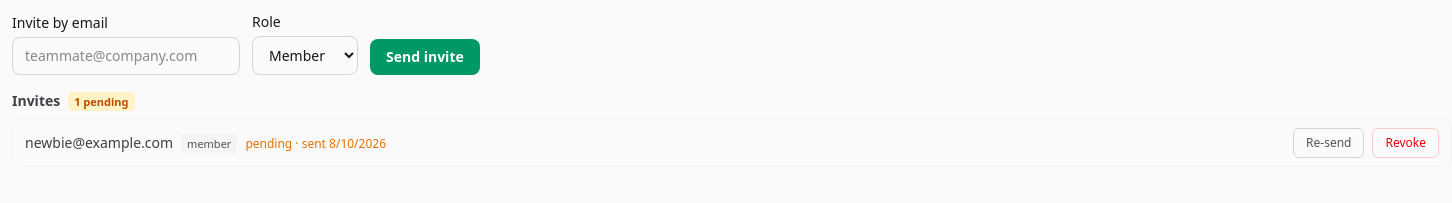
TeamInvites › sends an invite with the selected role and refreshes the list
Expected: the text "newbie@example.com" is shown, left=25, top=133, right=173, bottom=152
Type "fresh@example.com" into the field with placeholder "teammate@company.com" at (126, 56), box left=12, top=37, right=240, bottom=75
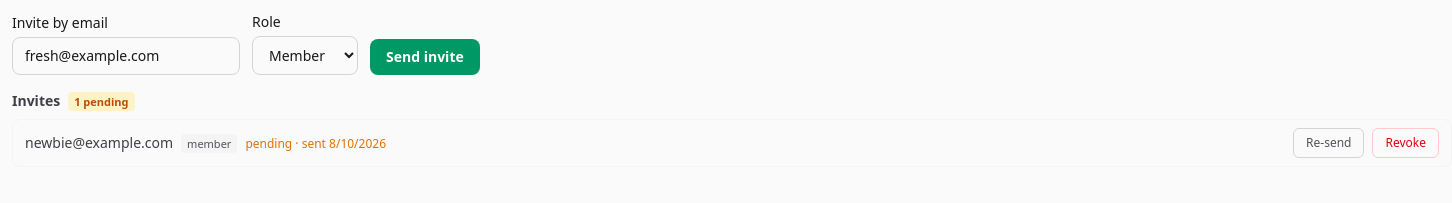
Select "Manager" in the dropdown labelled "Role" at (305, 56), box left=252, top=36, right=358, bottom=75
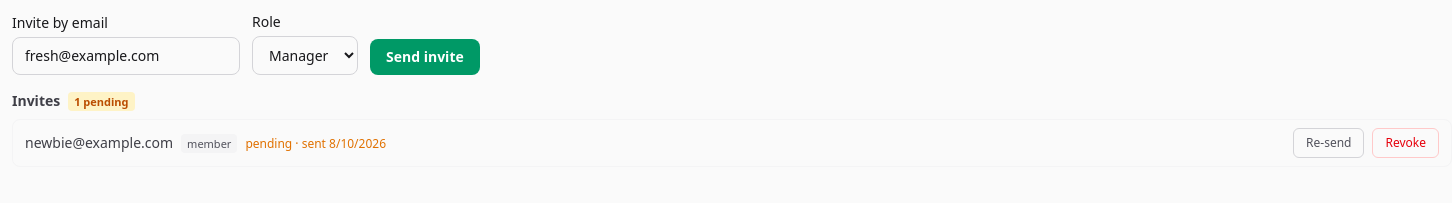
Click the button "Send invite" at (425, 57), box left=370, top=39, right=480, bottom=75
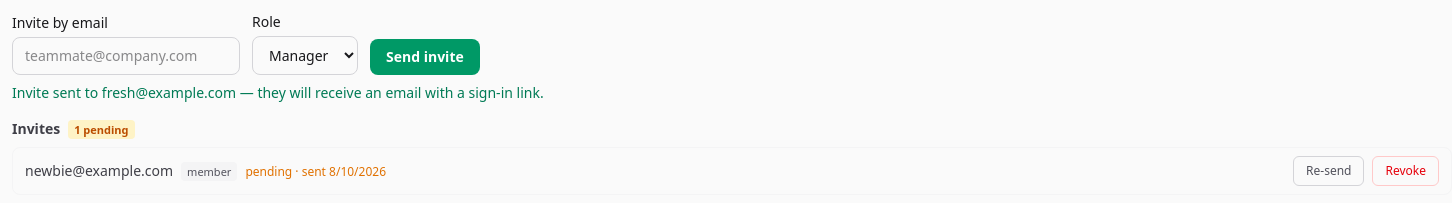
Expected: the text "Invite sent to fresh@example.com" is shown, left=12, top=83, right=544, bottom=102
